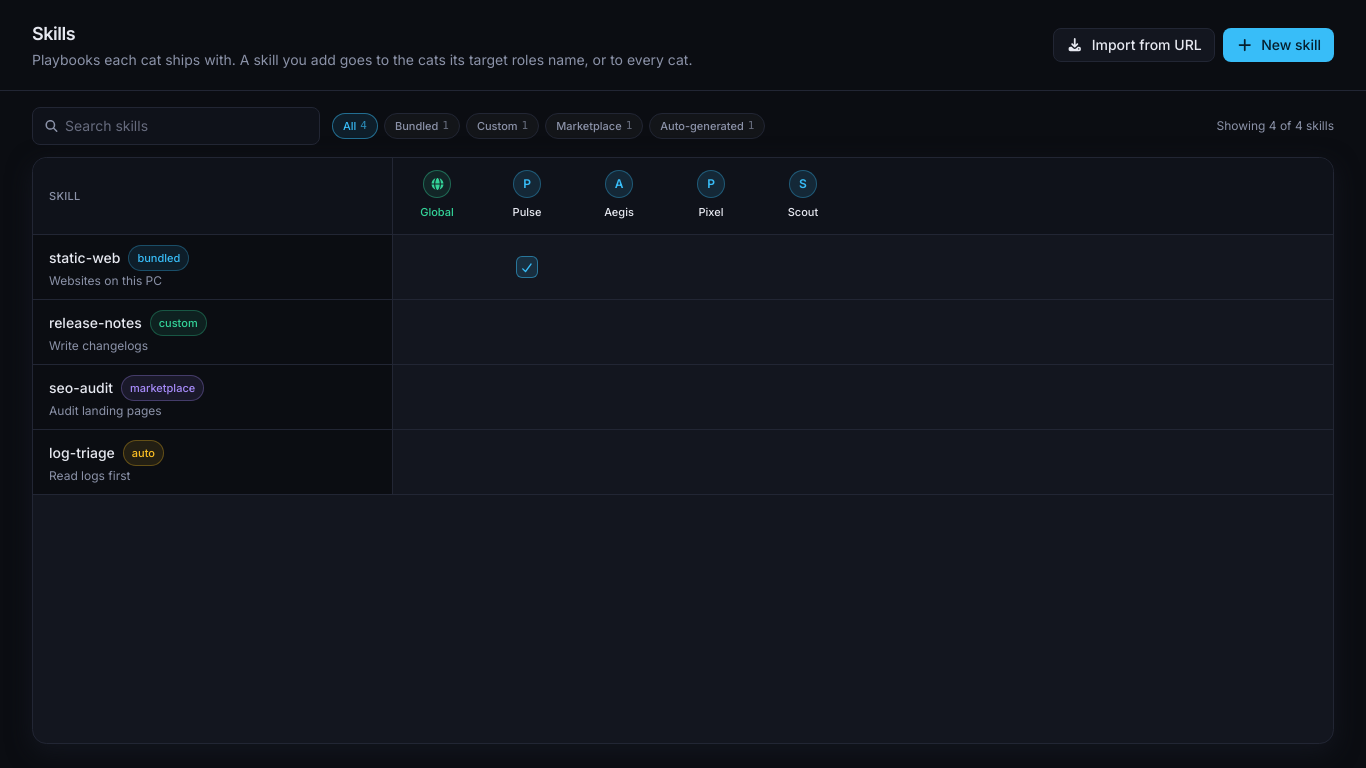
Test: SkillsPage › drawer › opens on row click with the playbook details
Expected: the button with aria-label "Open seo-audit" is shown, top-left (49, 375), bottom-right (376, 419)
Click the row named "Open seo-audit" at (683, 398), box top-left (33, 365), bottom-right (1333, 430)
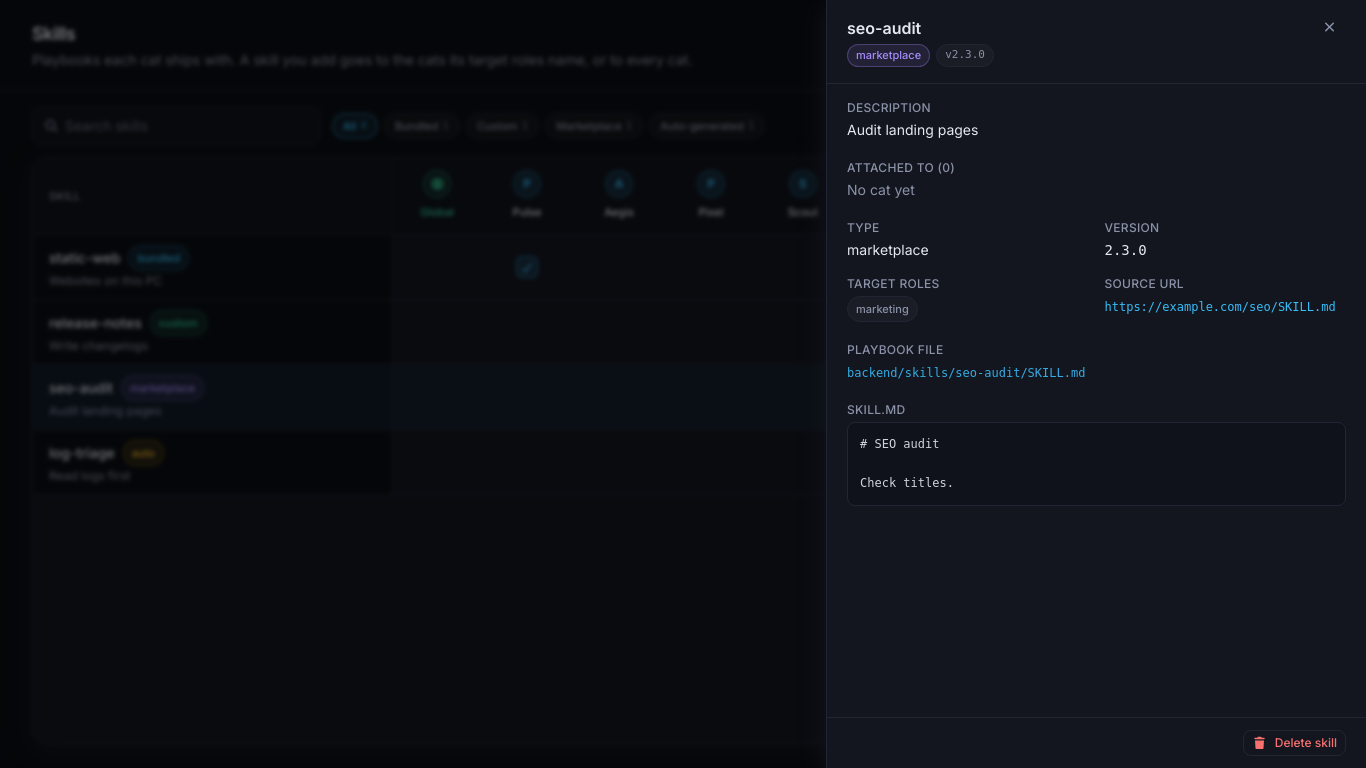
Result: the text named "Playbook markdown" shows "Check titles." at top-left (860, 436), bottom-right (954, 490)
Result: the text "marketing" is shown at top-left (847, 296), bottom-right (918, 322)
Result: the link "https://example.com/seo/SKILL.md" is shown at top-left (1104, 300), bottom-right (1336, 314)
Press Escape
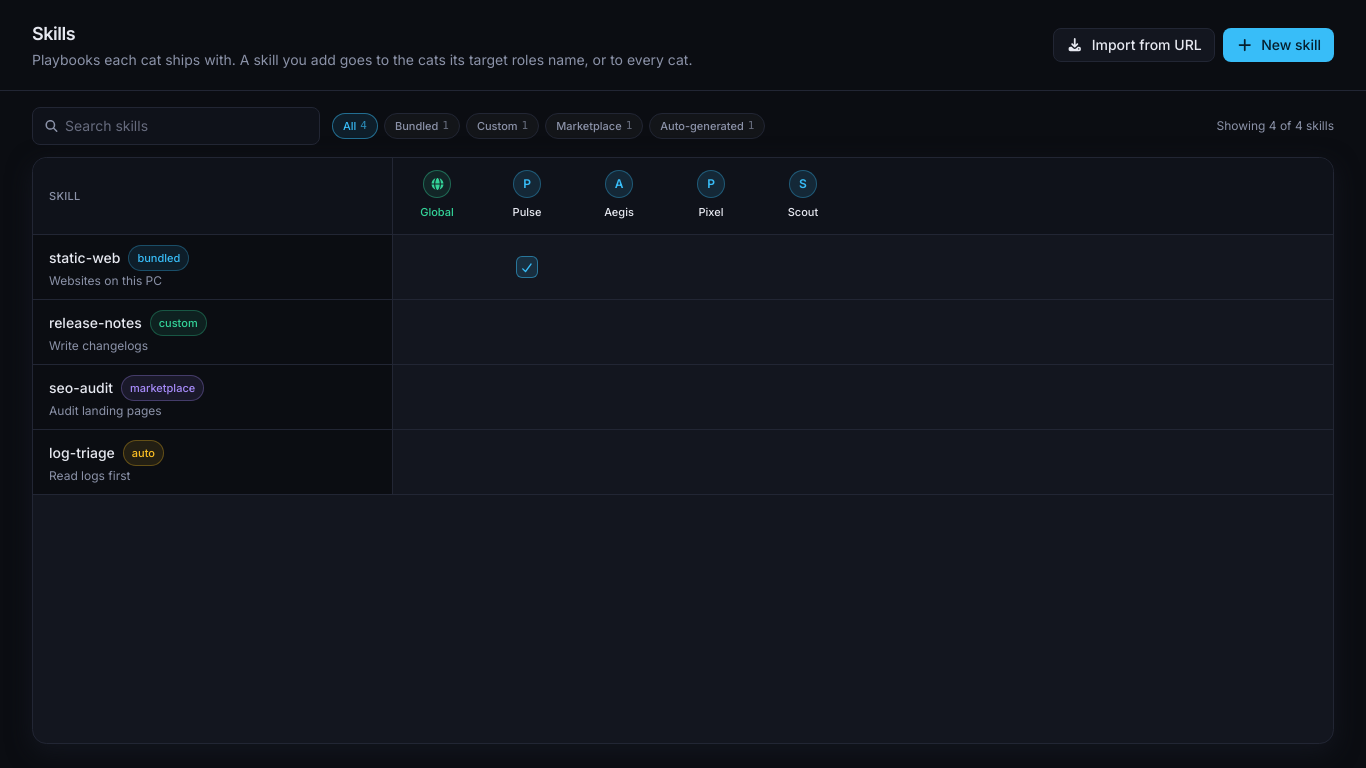
Result: the dialog is gone
